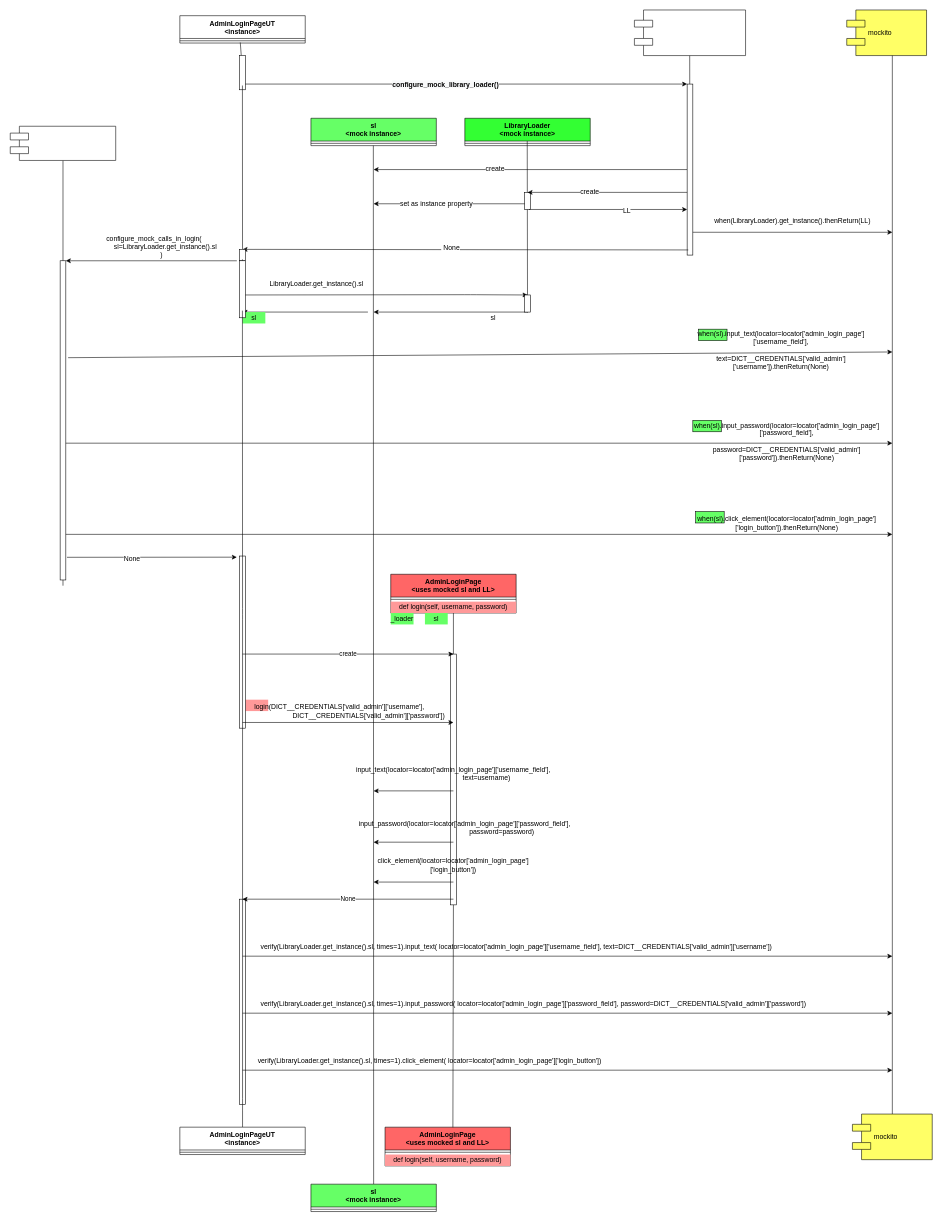
This 942x1222 diagram has some shape labels left out. The shapes that lost their labels are listed below. From the top down, each one's box as (x1, y1, x2, y2) in pixels, then its label:
(634, 9, 746, 56): LibraryLoaderStub.py
(10, 126, 116, 160): SeleniumLibraryStub.py
